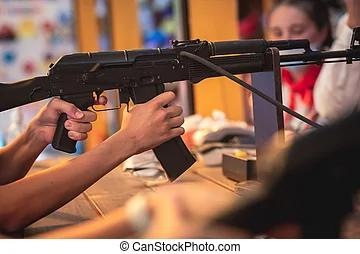larga: (0, 26, 360, 184)
